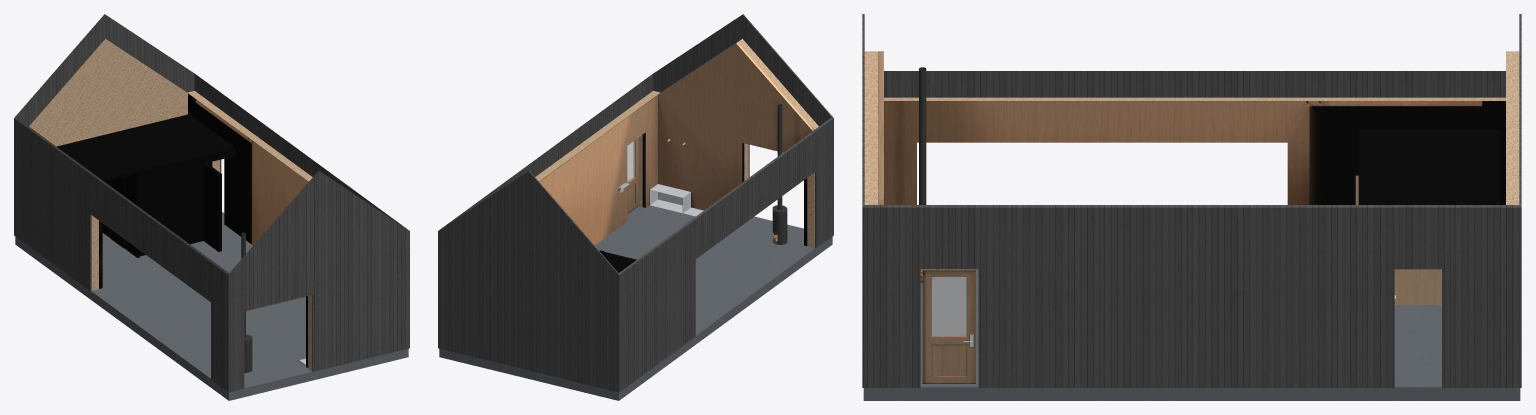
File: Black_Base_no light.glb
The picture shows the model from 3 angles, left to right: view 1: azimuth 30°, elevation 25°; view 2: azimuth 150°, elevation 25°; view 3: azimuth 270°, elevation 25°; orthographic projection. The views are drawn at different scales.
Parts seen in each view (by area): view 1: Exterior_Wood_Black_Base.002, Interior_Wood_Black_Base_no light, Concrete_Black_Base.002, Insolation_Black_Base.001, Fire Place_Black_Base.001; view 2: Exterior_Wood_Black_Base.002, Interior_Wood_Black_Base_no light, Concrete_Black_Base.002, Insolation_Black_Base.001, Alumininum_1_Black_Base.001, Fire Place_Black_Base.001; view 3: Exterior_Wood_Black_Base.002, Interior_Wood_Black_Base_no light, Concrete_Black_Base.002, Insolation_Black_Base.001, Glass_Black_Base.001, Fire Place_Black_Base.001.
Boxes of the visible parts, bbox=[...] form: Exterior_Wood_Black_Base.002: bbox=[14, 14, 409, 392]; Interior_Wood_Black_Base_no light: bbox=[56, 93, 308, 367]; Concrete_Black_Base.002: bbox=[15, 212, 408, 400]; Insolation_Black_Base.001: bbox=[29, 39, 312, 370]; Fire Place_Black_Base.001: bbox=[241, 232, 252, 372]; Exterior_Wood_Black_Base.002: bbox=[438, 14, 833, 392]; Interior_Wood_Black_Base_no light: bbox=[539, 42, 814, 272]; Concrete_Black_Base.002: bbox=[439, 205, 832, 400]; Insolation_Black_Base.001: bbox=[535, 39, 818, 247]; Alumininum_1_Black_Base.001: bbox=[618, 138, 703, 216]; Fire Place_Black_Base.001: bbox=[772, 104, 787, 244]; Exterior_Wood_Black_Base.002: bbox=[862, 14, 1521, 387]; Interior_Wood_Black_Base_no light: bbox=[878, 51, 1505, 383]; Concrete_Black_Base.002: bbox=[863, 270, 1520, 400]; Insolation_Black_Base.001: bbox=[864, 51, 1519, 386]; Glass_Black_Base.001: bbox=[932, 276, 966, 335]; Fire Place_Black_Base.001: bbox=[919, 67, 933, 282].
Bounding box in the file's own units: 2.18 × 2.39 × 4.46.
14 materials, 6 textured.
